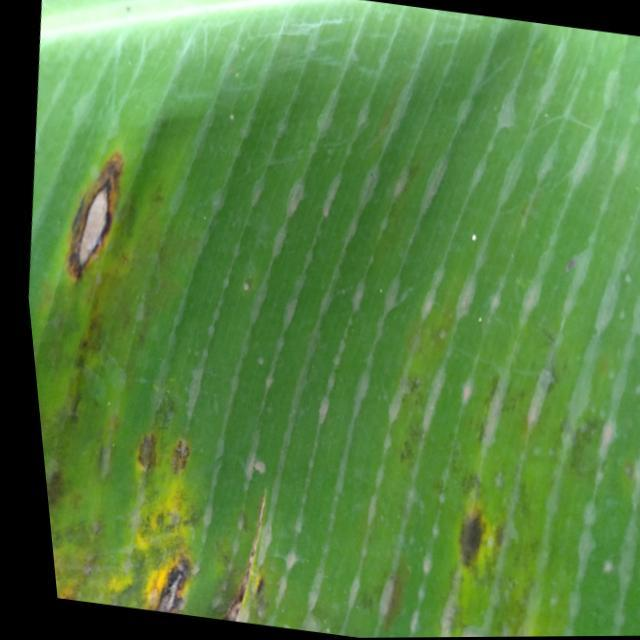Early_rust: (21, 104, 228, 635), (332, 339, 568, 639)
